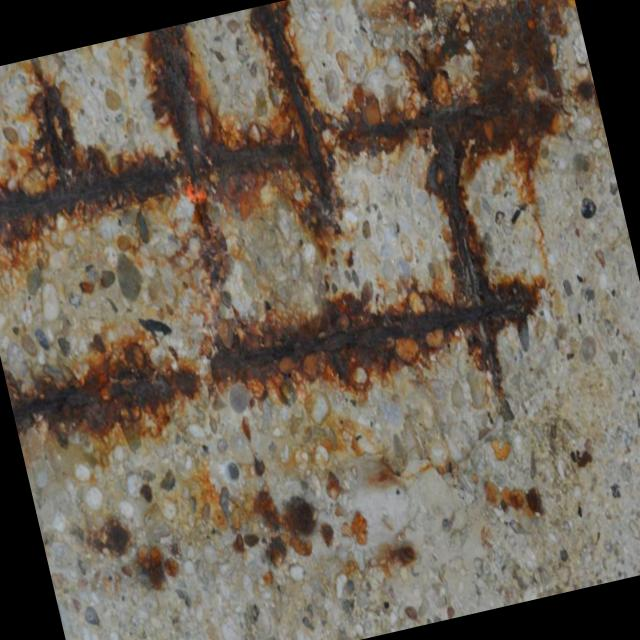spalling: (0, 0, 604, 640)
